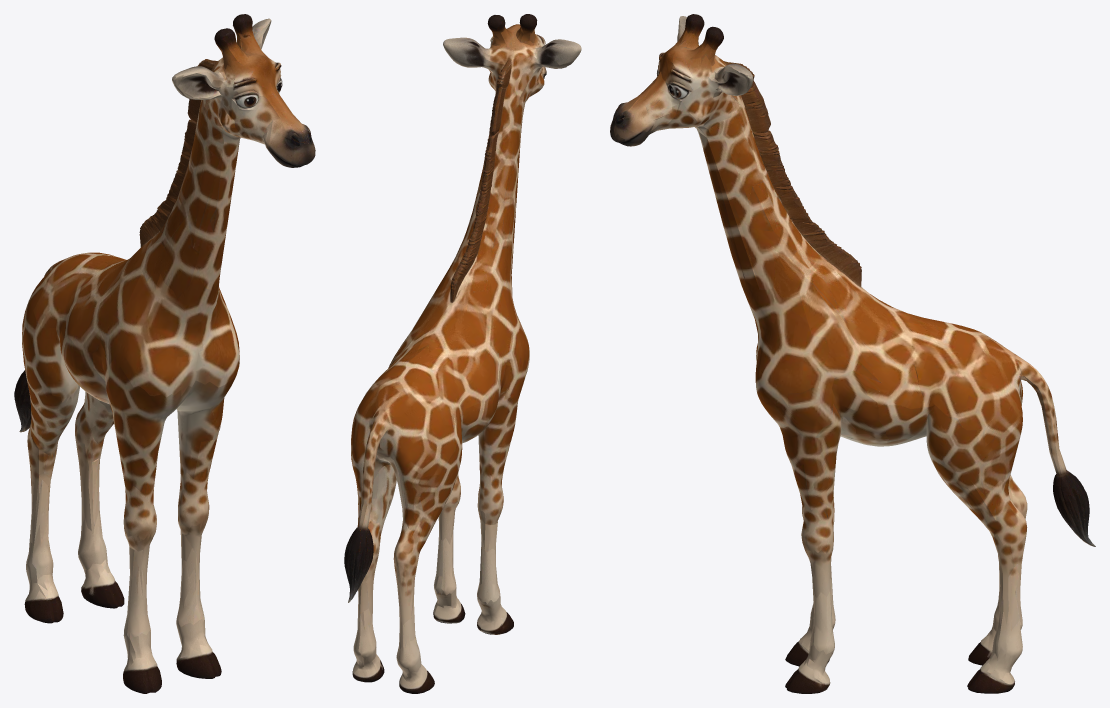
File: giraffe.glb
3 views of the same model, side by side, from view 1: azimuth 30°, elevation 25°; view 2: azimuth 150°, elevation 25°; view 3: azimuth 270°, elevation 25° (orthographic). The views are drawn at different scales.
Size of the model in its own units: 0.3809 by 1.9 by 1.28.
Materials: 1 (1 with a texture image).
